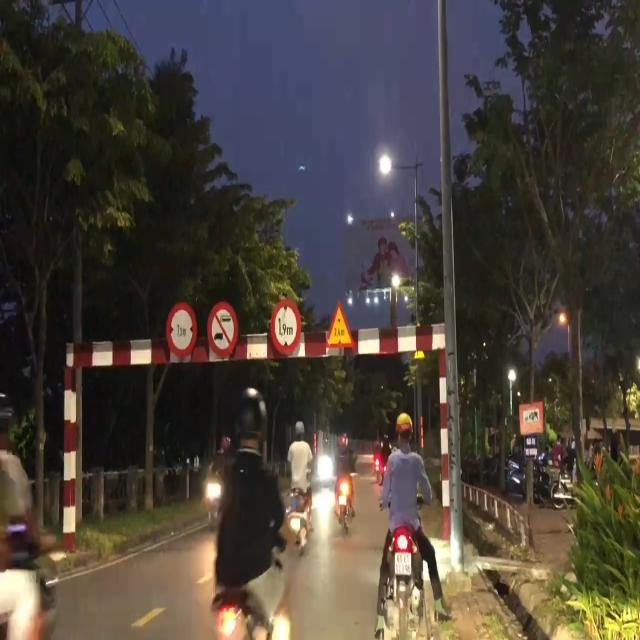Bien bao cam xe oto khach va xe oto tai: (205, 295, 243, 363)
Bien bao chieu cao tinh khong thuc te: (322, 296, 356, 356)
Bien bao han che chieu cao: (268, 296, 304, 360)
